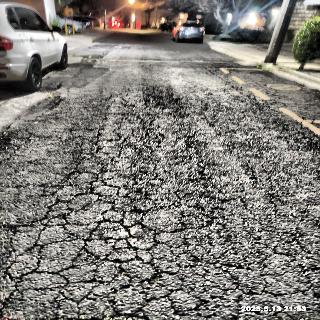alligator-crack: (3, 173, 143, 320), (147, 192, 244, 320)
crack: (97, 112, 192, 203), (260, 228, 320, 301)
